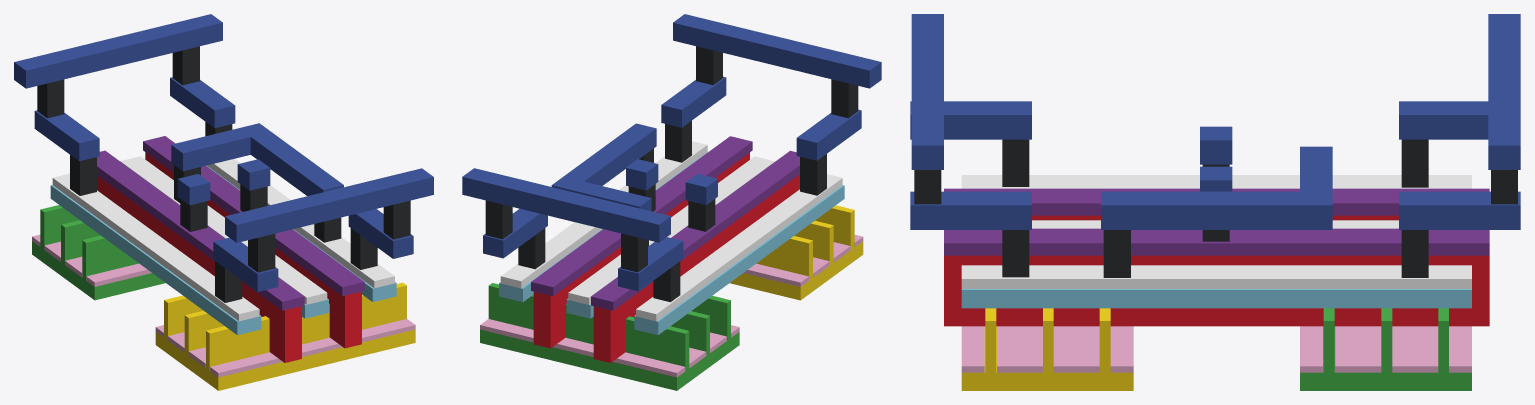
The model's file is 14nand.obj.
The picture shows the model from 3 angles, left to right: view 1: azimuth 30°, elevation 25°; view 2: azimuth 150°, elevation 25°; view 3: azimuth 270°, elevation 25°; orthographic projection. The views are drawn at different scales.
Parts seen in each view (by area): view 1: group_0_3888547, group_0_16768282, group_0_16448250, group_0_2829873, group_0_8273816, group_0_15277357, group_0_4634441, group_0_8768998, group_0_15708628; view 2: group_0_3888547, group_0_16448250, group_0_4634441, group_0_8273816, group_0_2829873, group_0_15277357, group_0_16768282, group_0_8768998, group_0_15708628; view 3: group_0_3888547, group_0_16448250, group_0_8273816, group_0_15277357, group_0_15708628, group_0_8768998, group_0_2829873, group_0_16768282, group_0_4634441.
Part boxes in pixels (left/top/right/bottom): group_0_3888547: left=14, top=14, right=433, bottom=291; group_0_16768282: left=155, top=282, right=415, bottom=390; group_0_16448250: left=52, top=156, right=394, bottom=321; group_0_2829873: left=37, top=46, right=410, bottom=302; group_0_8273816: left=97, top=136, right=364, bottom=310; group_0_15277357: left=97, top=152, right=361, bottom=362; group_0_4634441: left=32, top=205, right=165, bottom=300; group_0_8768998: left=50, top=165, right=396, bottom=335; group_0_15708628: left=32, top=234, right=415, bottom=377; group_0_3888547: left=462, top=14, right=881, bottom=291; group_0_16448250: left=500, top=141, right=842, bottom=321; group_0_4634441: left=480, top=283, right=739, bottom=390; group_0_8273816: left=531, top=136, right=799, bottom=310; group_0_2829873: left=485, top=46, right=858, bottom=302; group_0_15277357: left=533, top=152, right=799, bottom=362; group_0_16768282: left=729, top=205, right=863, bottom=300; group_0_8768998: left=499, top=152, right=844, bottom=335; group_0_15708628: left=480, top=234, right=863, bottom=377; group_0_3888547: left=910, top=14, right=1520, bottom=229; group_0_16448250: left=961, top=175, right=1471, bottom=288; group_0_8273816: left=944, top=188, right=1489, bottom=255; group_0_15277357: left=944, top=215, right=1489, bottom=326; group_0_15708628: left=961, top=326, right=1471, bottom=372; group_0_8768998: left=961, top=289, right=1471, bottom=308; group_0_2829873: left=914, top=139, right=1517, bottom=277; group_0_16768282: left=961, top=308, right=1133, bottom=390; group_0_4634441: left=1300, top=308, right=1471, bottom=390.
Size of the model in its own units: 230 by 200 by 451.
